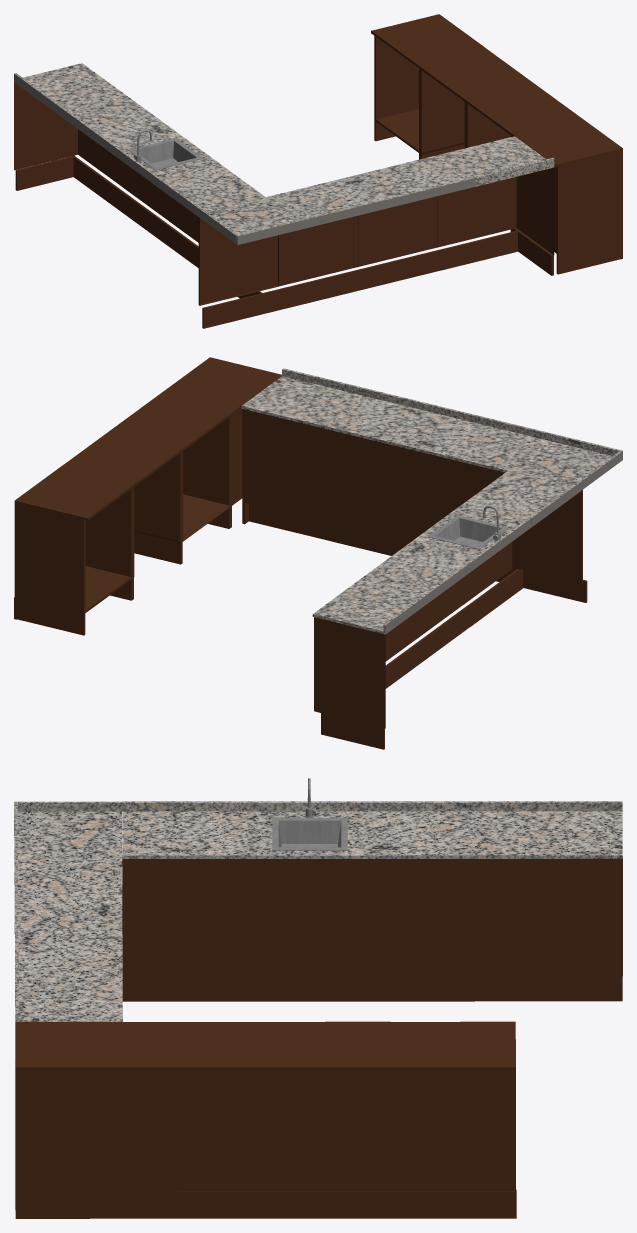
Rendered from KitchenWithSink.fbx.
3 views of the same model, one above another, from view 1: azimuth 30°, elevation 25°; view 2: azimuth 150°, elevation 25°; view 3: azimuth 270°, elevation 25° (orthographic). The views are drawn at different scales.
Visible parts, largest first — view 1: ServiceCounter_4, Cabinet3_Door.001, Cabinet1_Door.002, Cabinet1_Door.003, Cabinet2_Door.001, FaucetCountertop_4, Countertop1.004, Countertop1.002, Countertop2.001, Countertop1.003, Countertop1.001, Countertop3 (+14 smaller); view 2: ServiceCounter_4, Cabinet1_Door.002, Cabinet1_Door.003, FaucetCountertop_4, Countertop1.003, Countertop1.002, Cabinet3_Door.001, Countertop2.001, Cabinet2_Door.001, Countertop1.004, Countertop3, Cabinet3_Door (+11 smaller); view 3: ServiceCounter_4, Cabinet3_Door, Cabinet1_Door.001, Cabinet1_Door, Cabinet2_Door, Baseboard3.003, Countertop1.001, Countertop2, Countertop3, Countertop1.004, Countertop1.002, Countertop1.003 (+7 smaller).
Boxes of the visible parts, x1=… form: ServiceCounter_4: x1=371, y1=14, x2=622, y2=274; Cabinet3_Door.001: x1=198, y1=217, x2=278, y2=305; Cabinet1_Door.002: x1=437, y1=177, x2=516, y2=247; Cabinet1_Door.003: x1=358, y1=196, x2=437, y2=266; Cabinet2_Door.001: x1=279, y1=215, x2=357, y2=286; FaucetCountertop_4: x1=14, y1=82, x2=77, y2=170; Countertop1.004: x1=197, y1=194, x2=316, y2=245; Countertop1.002: x1=436, y1=136, x2=554, y2=186; Countertop2.001: x1=277, y1=175, x2=395, y2=225; Countertop1.003: x1=356, y1=155, x2=474, y2=206; Countertop1.001: x1=151, y1=163, x2=265, y2=216; Countertop3: x1=14, y1=63, x2=127, y2=115; ServiceCounter_4: x1=14, y1=357, x2=281, y2=635; Cabinet1_Door.002: x1=242, y1=409, x2=326, y2=522; Cabinet1_Door.003: x1=327, y1=429, x2=411, y2=542; FaucetCountertop_4: x1=316, y1=618, x2=385, y2=728; Countertop1.003: x1=326, y1=389, x2=452, y2=449; Countertop1.002: x1=241, y1=368, x2=367, y2=428; Cabinet3_Door.001: x1=497, y1=470, x2=582, y2=584; Countertop2.001: x1=411, y1=409, x2=537, y2=470; Cabinet2_Door.001: x1=412, y1=450, x2=496, y2=540; Countertop1.004: x1=496, y1=430, x2=622, y2=490; Countertop3: x1=312, y1=578, x2=434, y2=634; Cabinet3_Door: x1=314, y1=542, x2=512, y2=711; ServiceCounter_4: x1=15, y1=1021, x2=515, y2=1209; Cabinet3_Door: x1=372, y1=856, x2=622, y2=978; Cabinet1_Door.001: x1=122, y1=859, x2=247, y2=978; Cabinet1_Door: x1=247, y1=859, x2=372, y2=978; Cabinet2_Door: x1=372, y1=859, x2=497, y2=978; Baseboard3.003: x1=15, y1=1189, x2=516, y2=1218; Countertop1.001: x1=122, y1=801, x2=247, y2=858; Countertop2: x1=372, y1=801, x2=497, y2=858; Countertop3: x1=497, y1=801, x2=622, y2=858; Countertop1.004: x1=14, y1=801, x2=122, y2=866; Countertop1.002: x1=15, y1=960, x2=122, y2=1021; Countertop1.003: x1=14, y1=907, x2=122, y2=968.
Bounding box in the file's own units: 1301 × 453 × 1299.
Materials: 6 (3 with a texture image).
